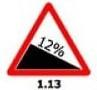road_sign: (5, 1, 92, 77)
